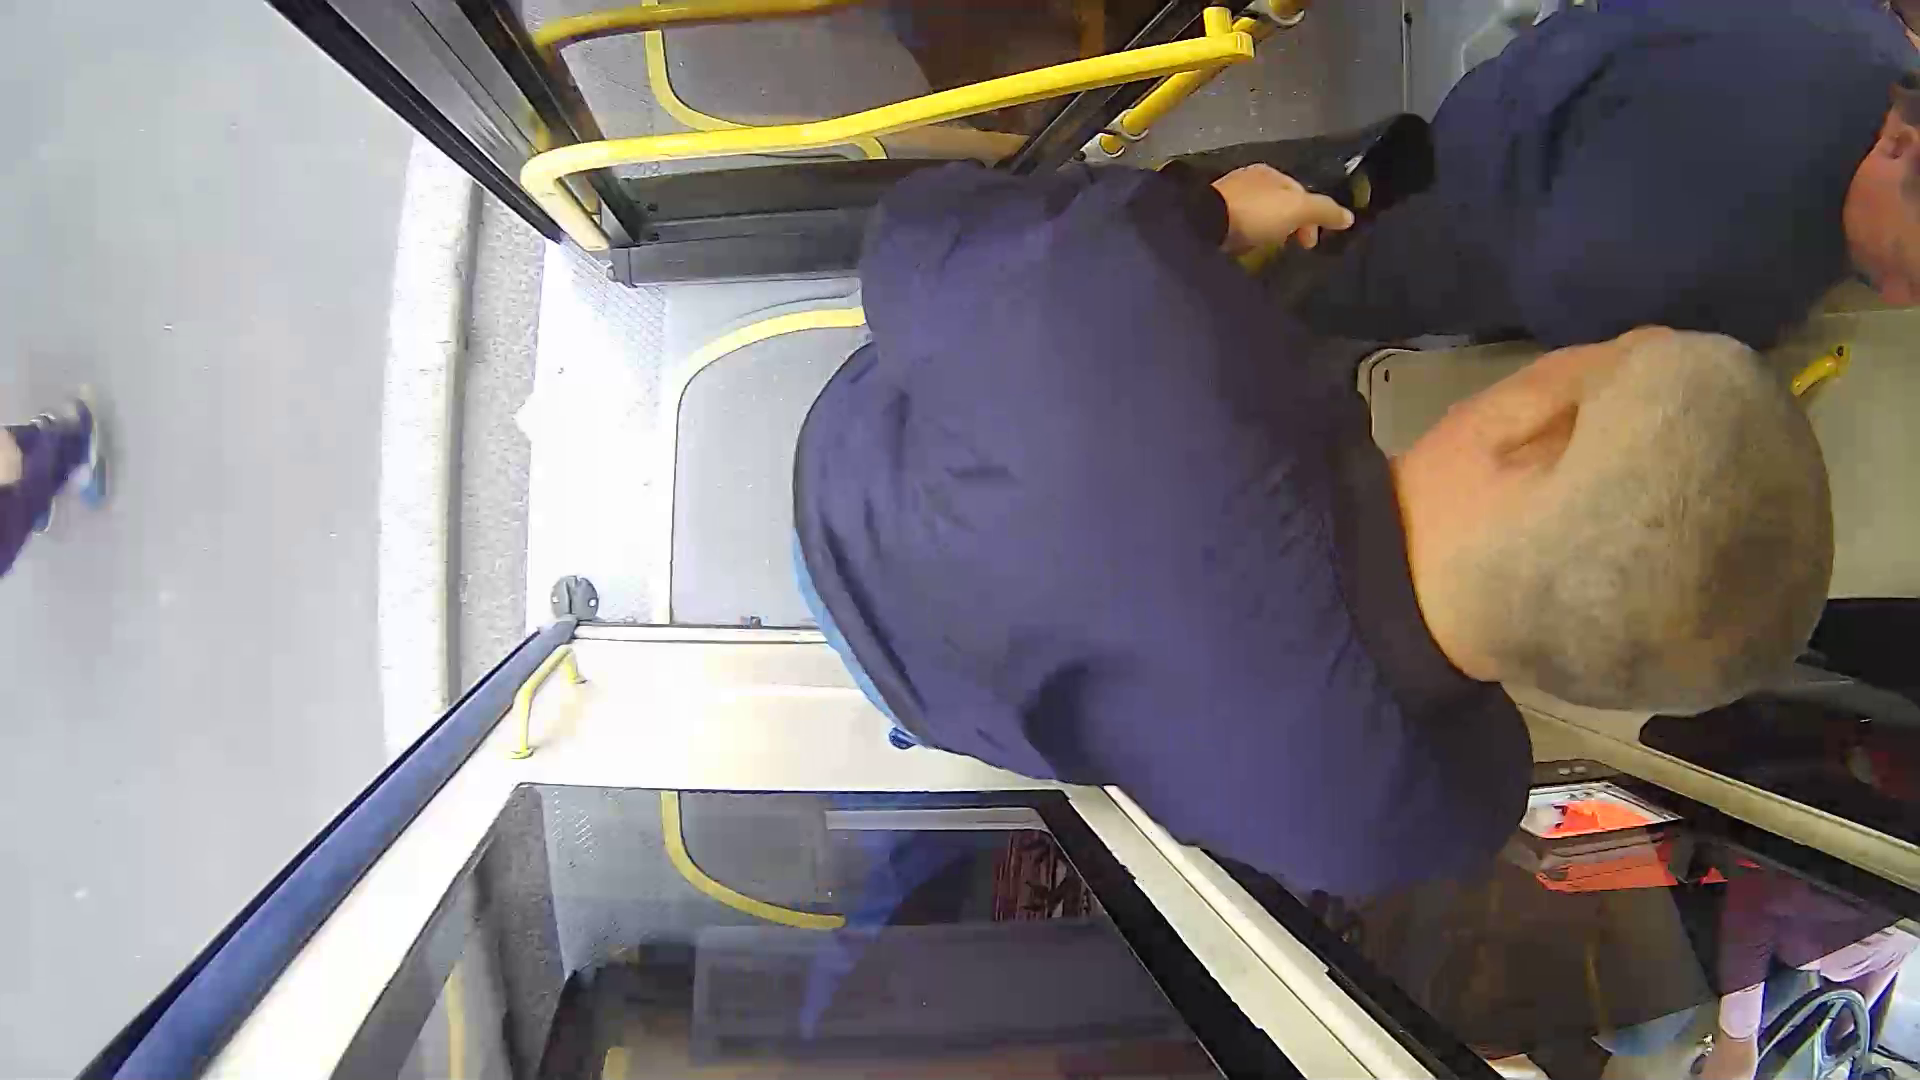person: (783, 135, 1825, 929)
